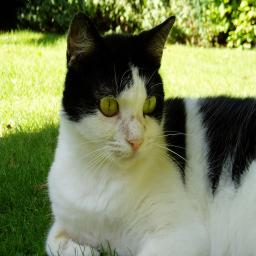catnose: (127, 131, 146, 151)
